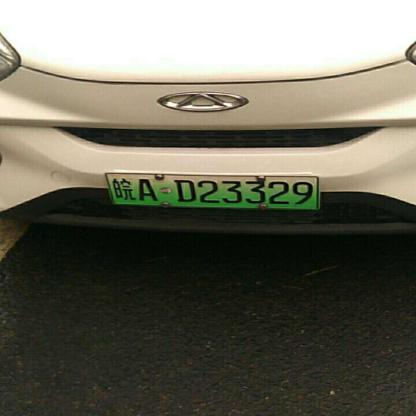lp: (107, 172, 318, 208)
